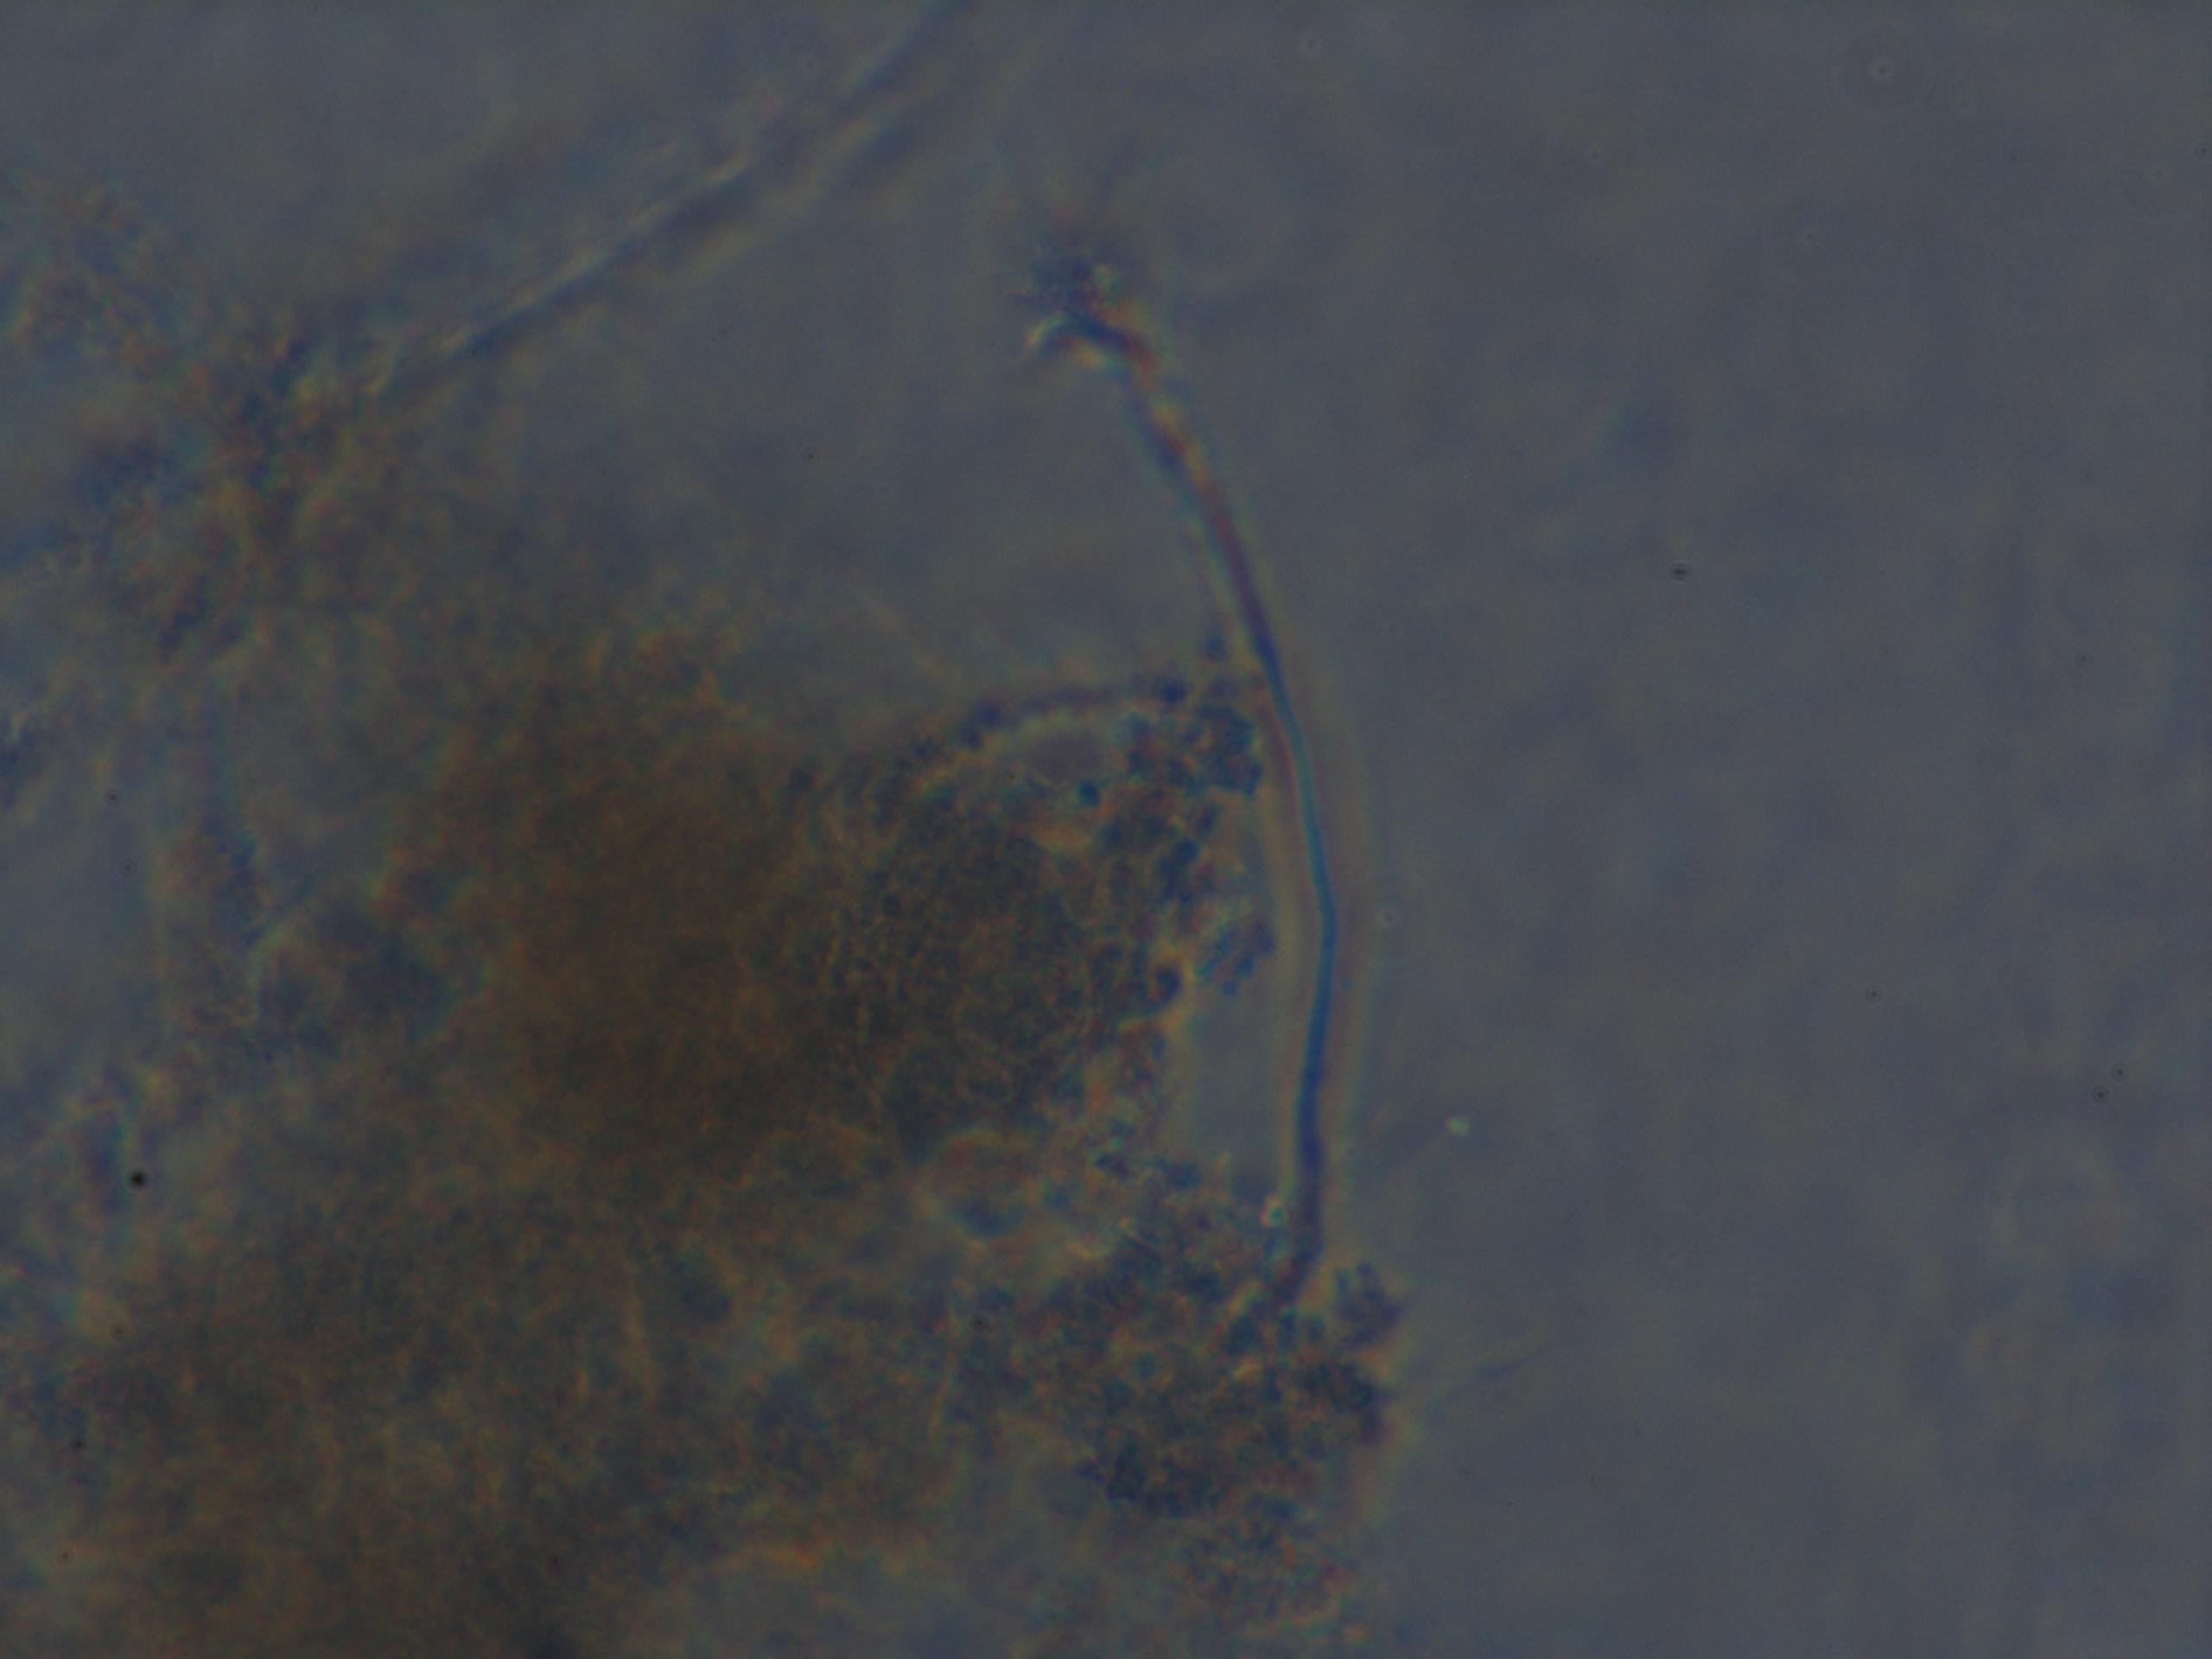filament: (242, 0, 989, 525), (1021, 265, 1352, 1300)
